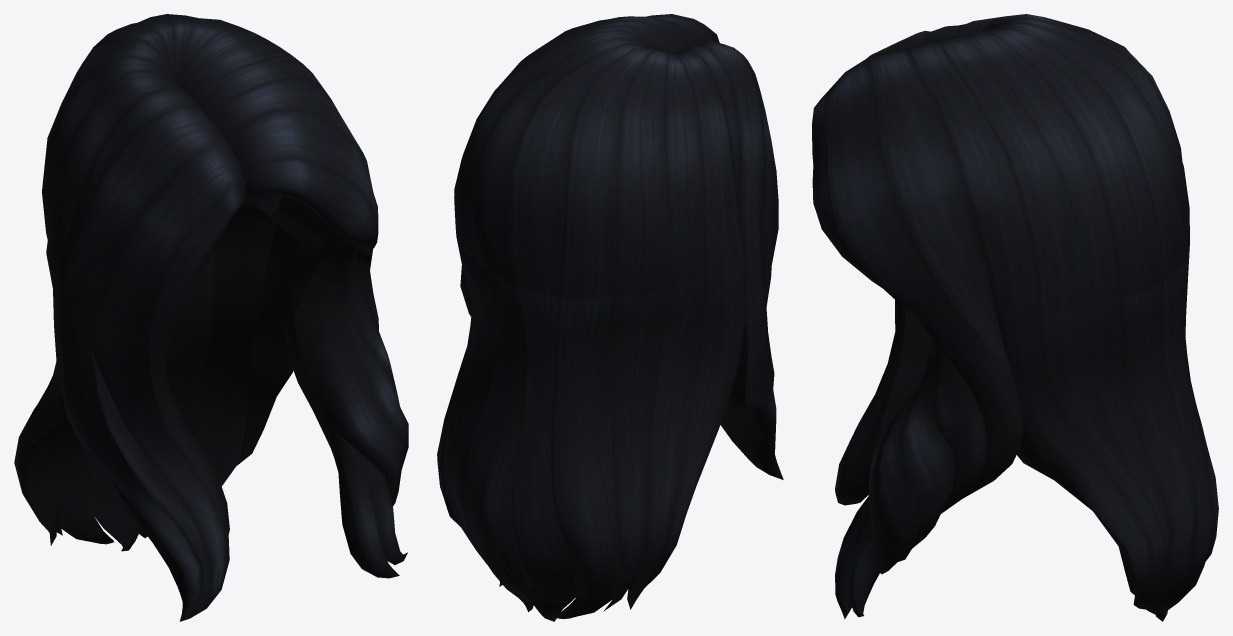
The model's file is hair6.glb.
3 views of the same model, side by side, from view 1: azimuth 30°, elevation 25°; view 2: azimuth 150°, elevation 25°; view 3: azimuth 270°, elevation 25° (orthographic). The views are drawn at different scales.
Visible parts, largest first — view 1: s4studio_mesh_2, s4studio_mesh_1, s4studio_mesh_3; view 2: s4studio_mesh_1, s4studio_mesh_2, s4studio_mesh_3; view 3: s4studio_mesh_2, s4studio_mesh_1, s4studio_mesh_3.
Boxes of the visible parts, box(x1,y1,x2,y2) form: s4studio_mesh_2: box(42, 14, 378, 296); s4studio_mesh_1: box(14, 196, 403, 621); s4studio_mesh_3: box(19, 193, 408, 621); s4studio_mesh_1: box(437, 171, 783, 621); s4studio_mesh_2: box(454, 14, 776, 298); s4studio_mesh_3: box(462, 303, 782, 609); s4studio_mesh_2: box(812, 14, 1189, 313); s4studio_mesh_1: box(837, 236, 1218, 621); s4studio_mesh_3: box(835, 300, 1214, 620).
Bounding box in the file's own units: 0.1889 × 0.3302 × 0.208.
Materials: 1 (1 with a texture image).
